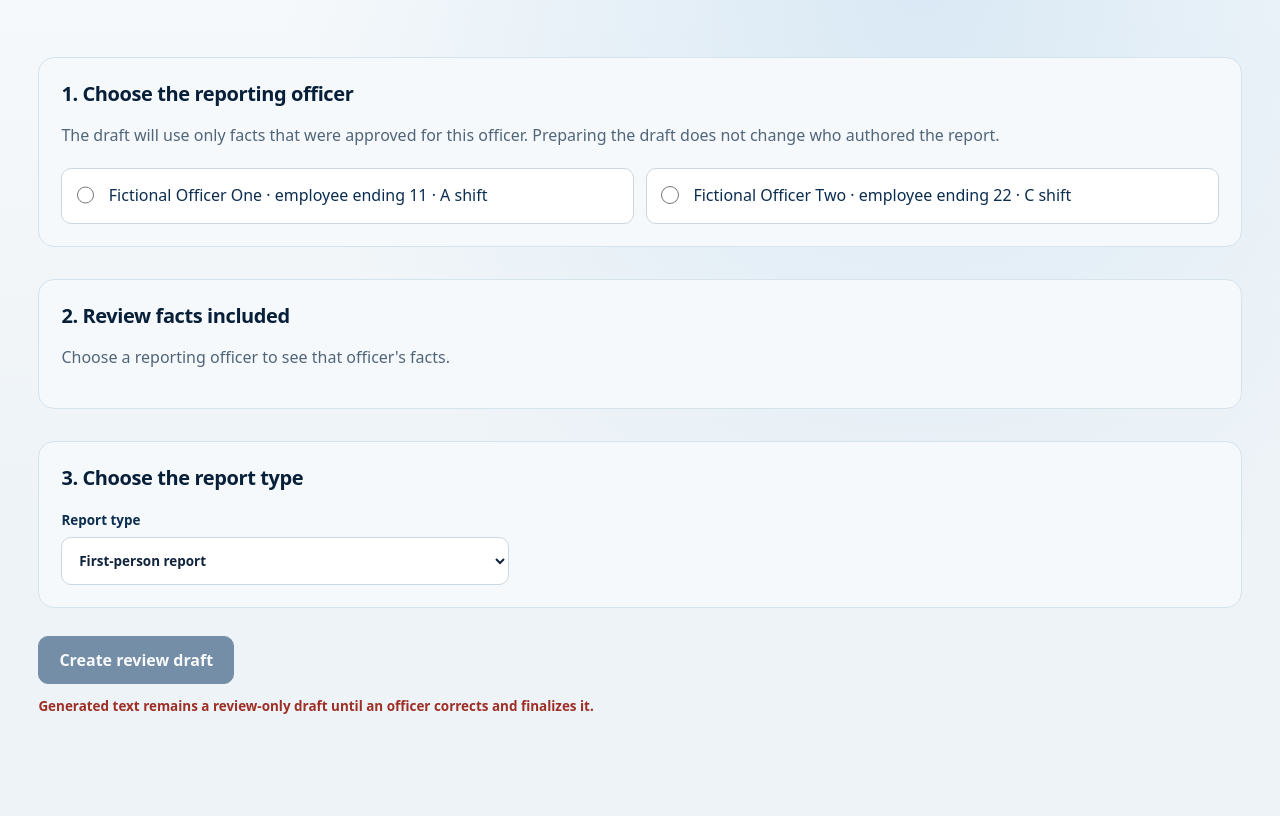
it: ReportDraftRequestForm › keeps fact selection optional and resets exclusions for a new reporter
The image size is (1280, 816).
Step 1. Click the radio button labelled "Fictional Officer One · employee ending 11 · A shift" → (86, 195), box [77,186,94,204]
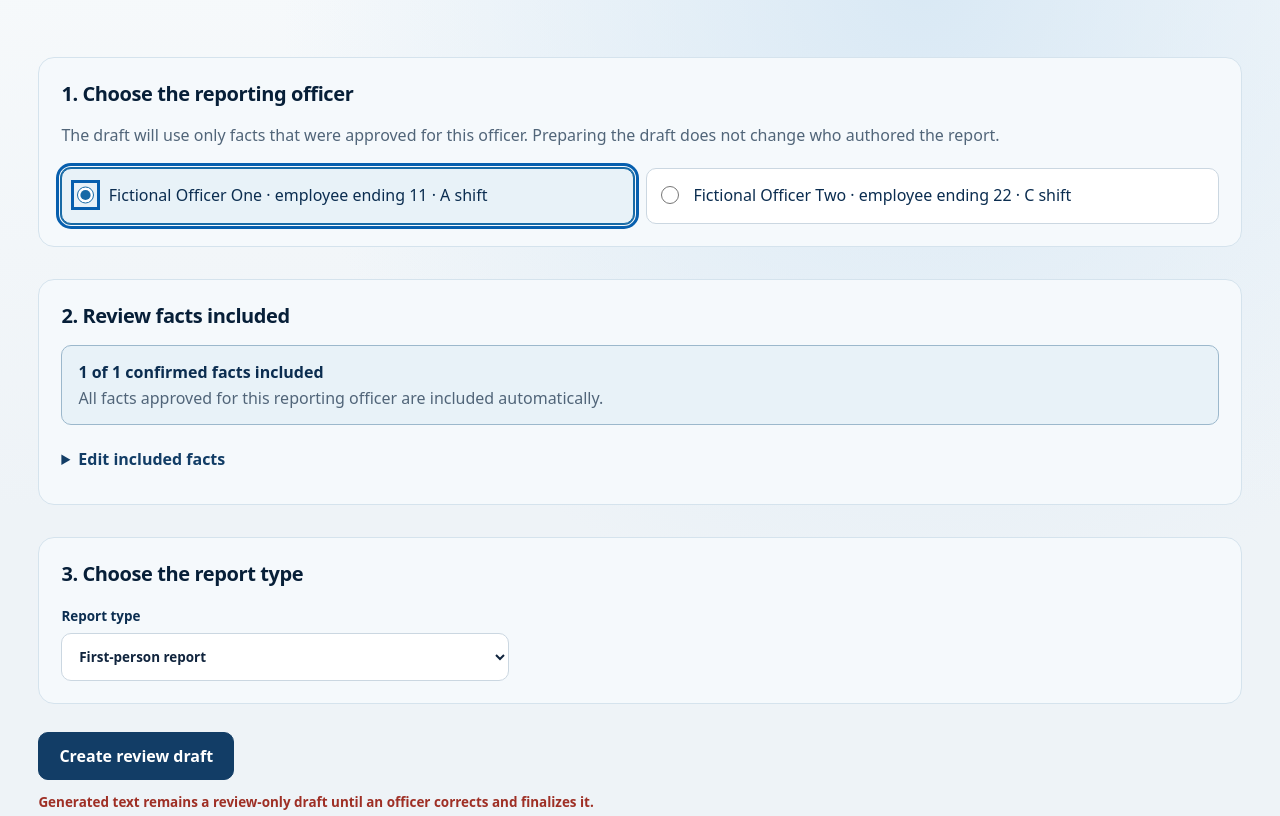
Step 2. Click the heading "Edit included facts" → (152, 459), box [78,448,225,470]
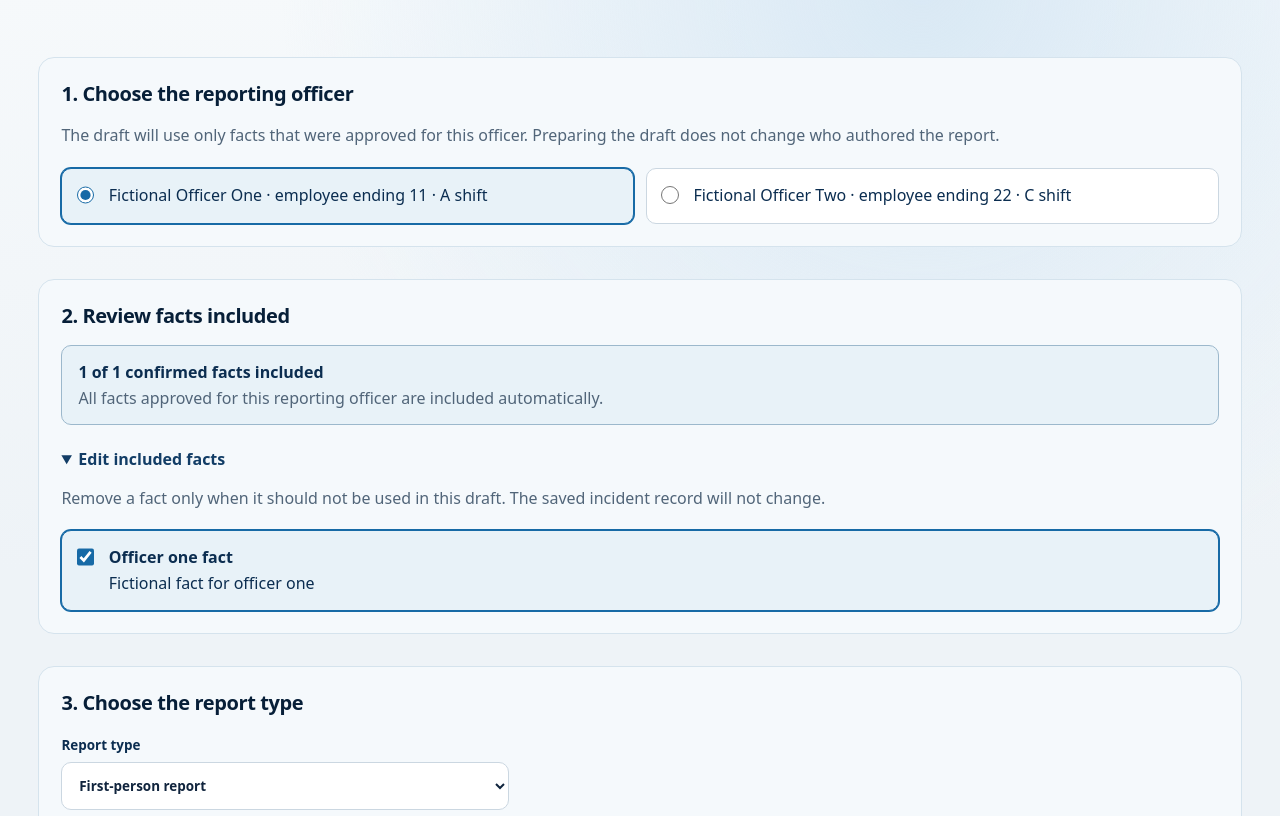
Check: the checkbox labelled "Officer one fact Fictional fact for officer one" is checked
Step 3. Click the checkbox labelled "Officer one fact Fictional fact for officer one" → (86, 557), box [77,548,94,566]
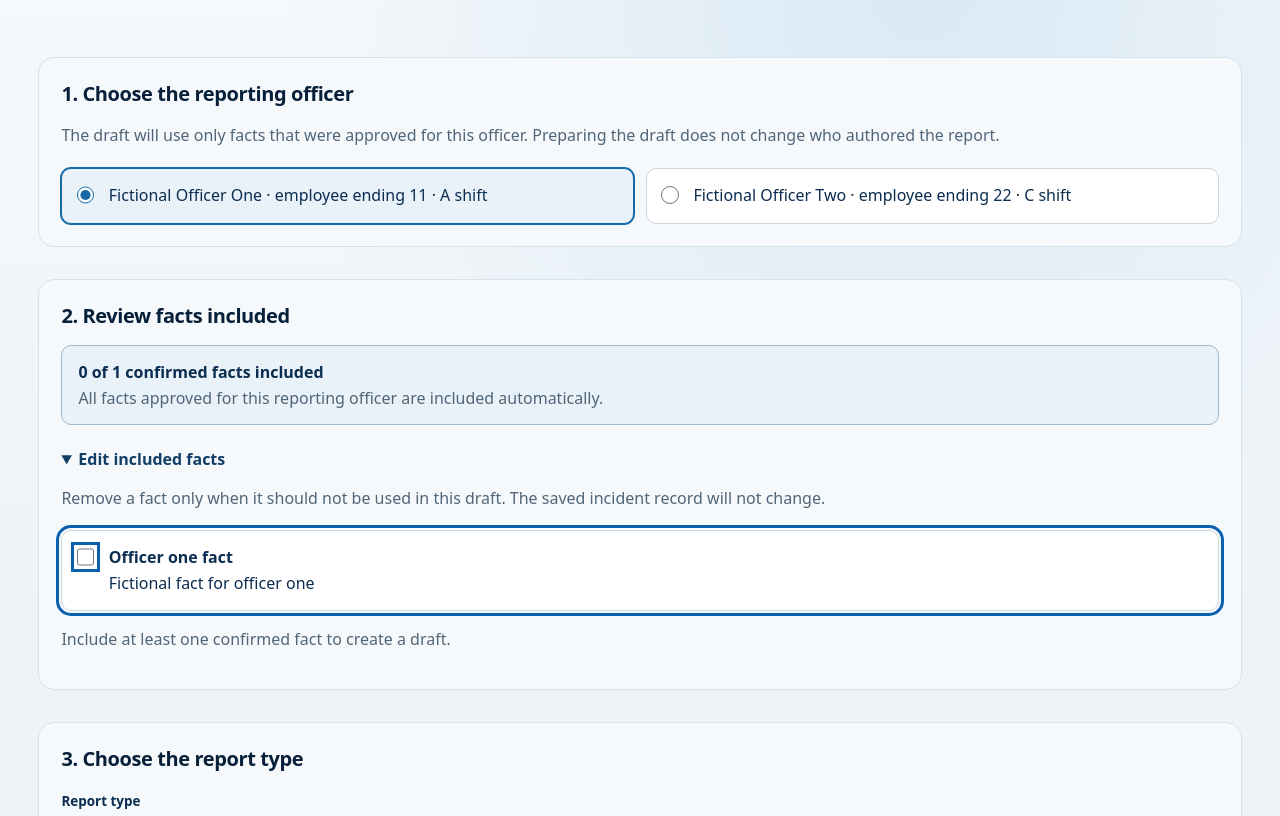
Check: the text "Include at least one confirmed fact to create a draft." is shown, box [61,628,451,650]
Step 4. Click the radio button labelled "Fictional Officer Two · employee ending 22 · C shift" → (670, 195), box [661,186,679,204]
(page scrolled)
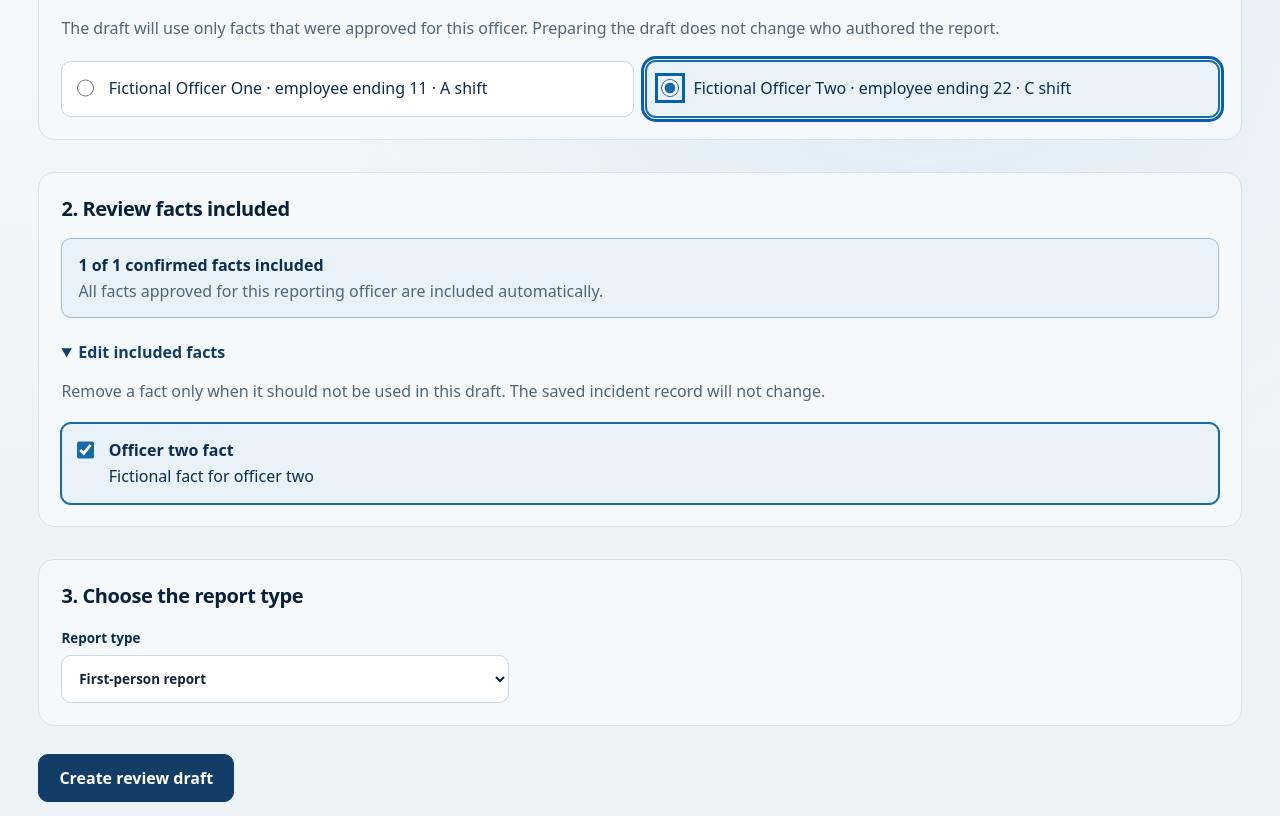
Check: the text "1 of 1 confirmed facts included" is shown, box [78,254,324,276]
Check: the button "Create review draft" is enabled, box [38,754,234,802]
